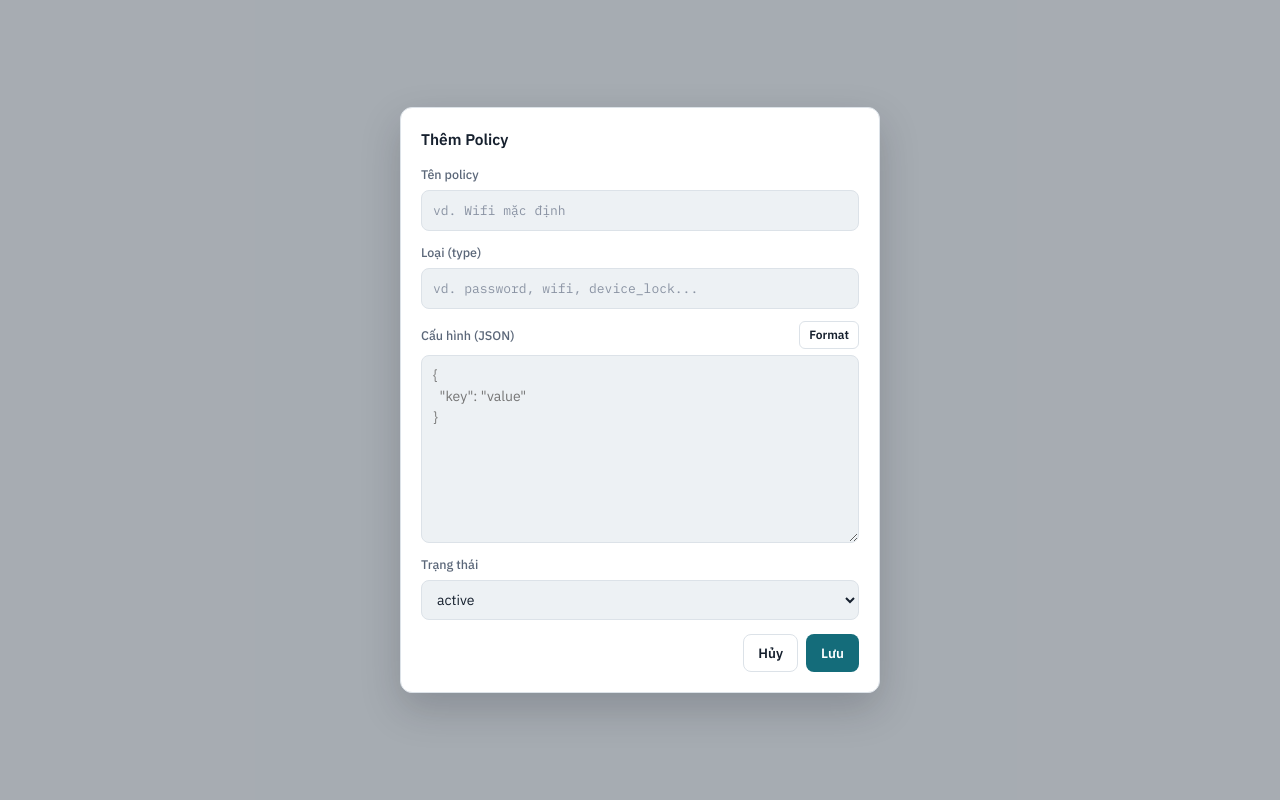
Scenario: PolicyFormModal › parseConfiguration via blur / Format / submit (§2.2) › rejects syntactically-valid JSON that is not a plain object: 5
Type "5" into the text box with test id "policy-form-configuration".
click(640, 449); type("5")  # box x1=421 y1=355 x2=859 y2=543
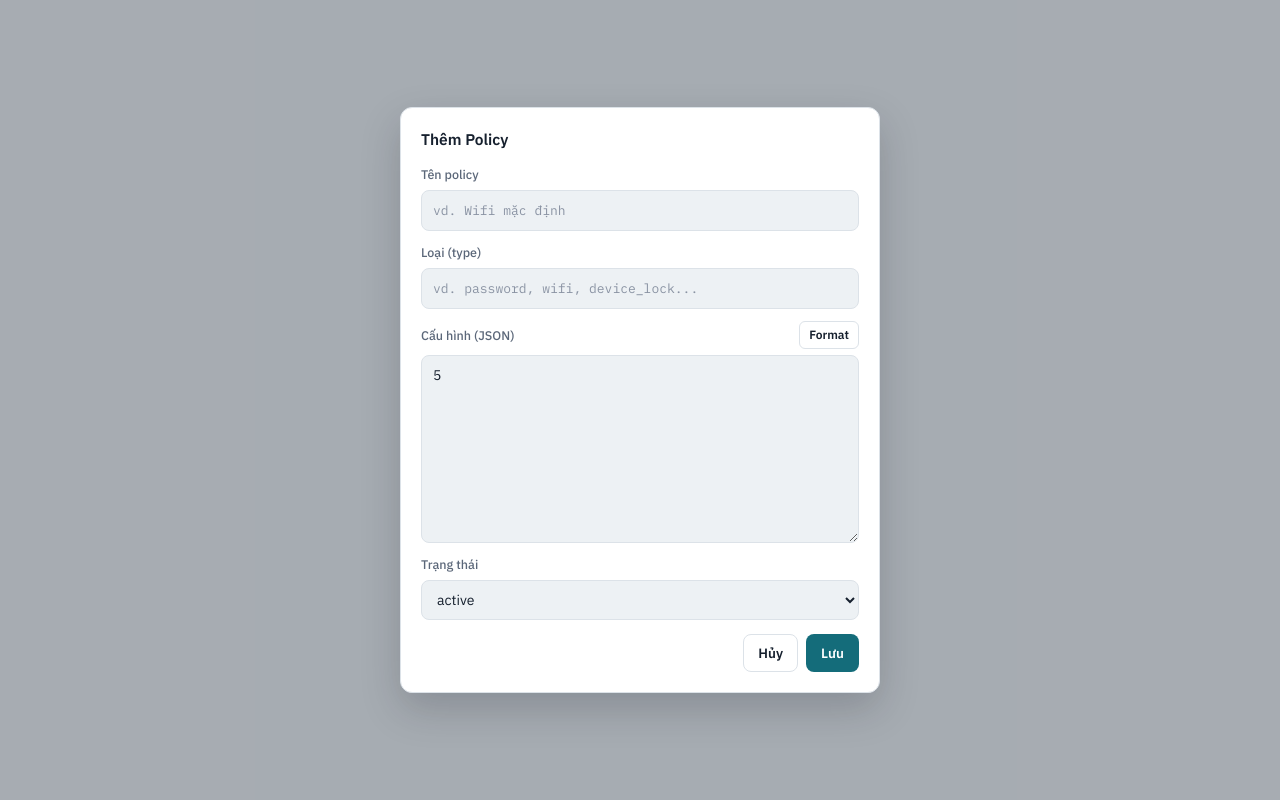
Leave the text box with test id "policy-form-configuration", box x1=421 y1=355 x2=859 y2=543
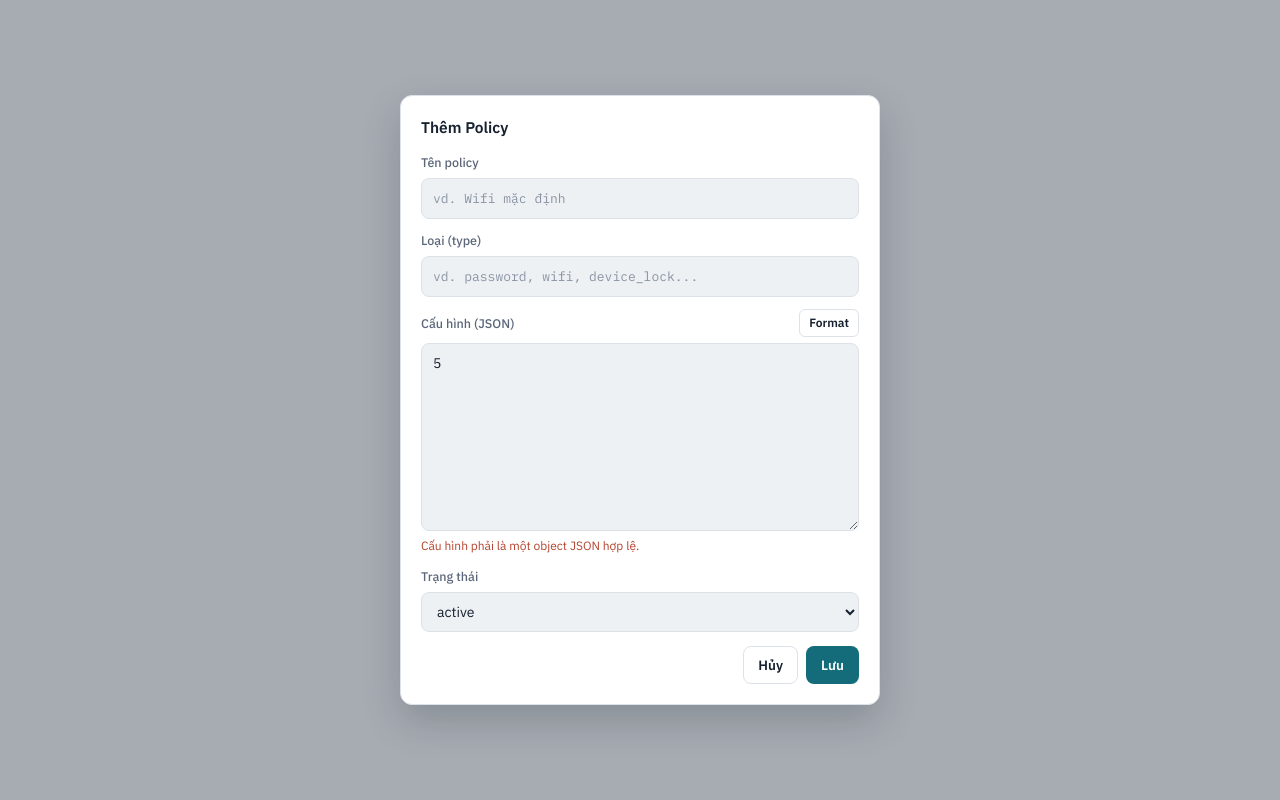
Now the text with test id "field-error-configuration" reads "Cấu hình phải là một object JSON hợp lệ.", box x1=421 y1=538 x2=639 y2=553
